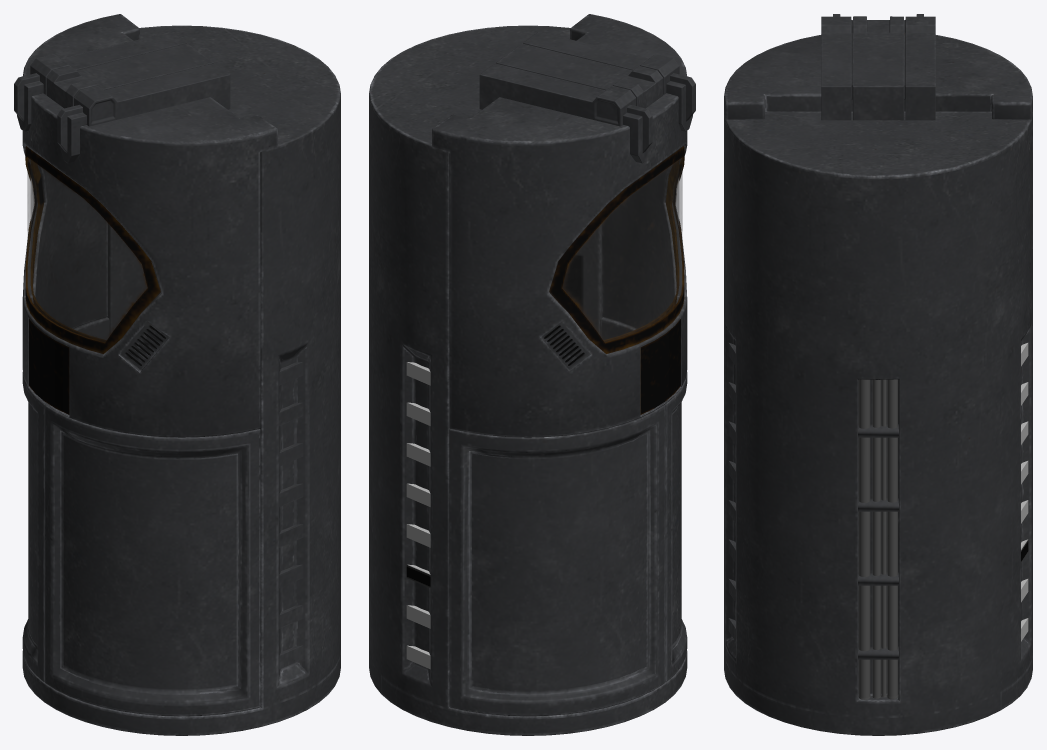
File: Капсула.glb
3 views of the same model, side by side, from view 1: azimuth 30°, elevation 25°; view 2: azimuth 150°, elevation 25°; view 3: azimuth 270°, elevation 25° (orthographic). The views are drawn at different scales.
Parts seen in each view (by area): view 1: Цилиндр.013, Цилиндр.014, Цилиндр.012, Цилиндр.004, Куб.004, Куб.005, Цилиндр.002, Куб.002; view 2: Цилиндр.013, Цилиндр.014, Цилиндр.012, Цилиндр.004, Куб.004, Куб.005, Цилиндр.002, Куб.002; view 3: Цилиндр.012, Цилиндр.013, Куб.004, Цилиндр, Цилиндр.003, Цилиндр.007, Куб.005, Куб.006, Цилиндр.006.
Boxes of the visible parts, x1=… form: Цилиндр.013: x1=22, y1=14, x2=277, y2=437; Цилиндр.014: x1=22, y1=317, x2=260, y2=716; Цилиндр.012: x1=22, y1=25, x2=340, y2=735; Цилиндр.004: x1=25, y1=146, x2=160, y2=353; Куб.004: x1=30, y1=31, x2=230, y2=126; Куб.005: x1=279, y1=362, x2=303, y2=669; Цилиндр.002: x1=29, y1=319, x2=69, y2=414; Куб.002: x1=14, y1=73, x2=86, y2=163; Цилиндр.013: x1=432, y1=14, x2=687, y2=437; Цилиндр.014: x1=449, y1=317, x2=687, y2=716; Цилиндр.012: x1=369, y1=25, x2=687, y2=735; Цилиндр.004: x1=549, y1=146, x2=684, y2=353; Куб.004: x1=479, y1=31, x2=679, y2=126; Куб.005: x1=406, y1=362, x2=430, y2=669; Цилиндр.002: x1=640, y1=319, x2=680, y2=414; Куб.002: x1=623, y1=73, x2=695, y2=163; Цилиндр.012: x1=724, y1=111, x2=1032, y2=735; Цилиндр.013: x1=724, y1=35, x2=1032, y2=151; Куб.004: x1=821, y1=16, x2=935, y2=120; Цилиндр: x1=858, y1=379, x2=870, y2=699; Цилиндр.003: x1=887, y1=379, x2=898, y2=699; Цилиндр.007: x1=872, y1=379, x2=880, y2=698; Куб.005: x1=728, y1=343, x2=1028, y2=641; Куб.006: x1=858, y1=424, x2=898, y2=659; Цилиндр.006: x1=881, y1=379, x2=886, y2=697.
Bounding box in the file's own units: 1.02 × 2.14 × 0.9994.
Materials: 2 (2 with a texture image).
